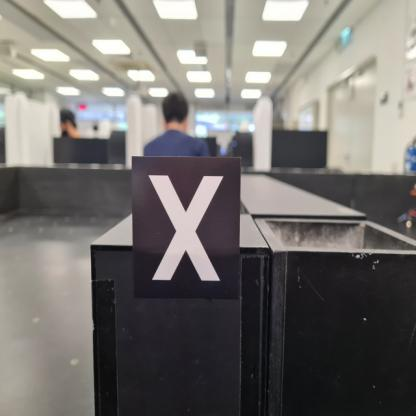x: (131, 156, 243, 300)
